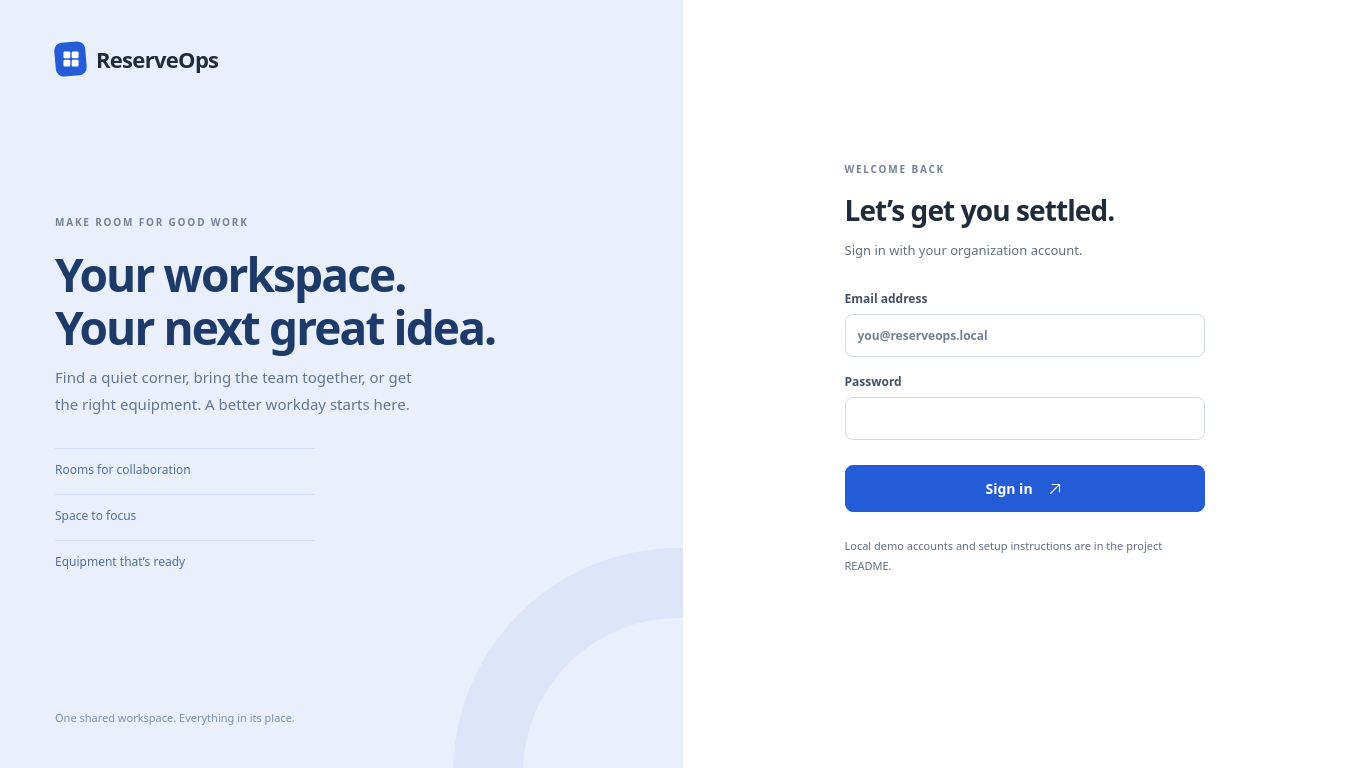
Test: ReserveOps user workflows › redirects unauthenticated users to accessible login and submits cookies with CSRF
Expected: the heading "Let’s get you settled." is shown, left=844, top=191, right=1114, bottom=229
Type "wrong@example.test" into the field labelled "Email address" at (1024, 336), box left=844, top=314, right=1204, bottom=358
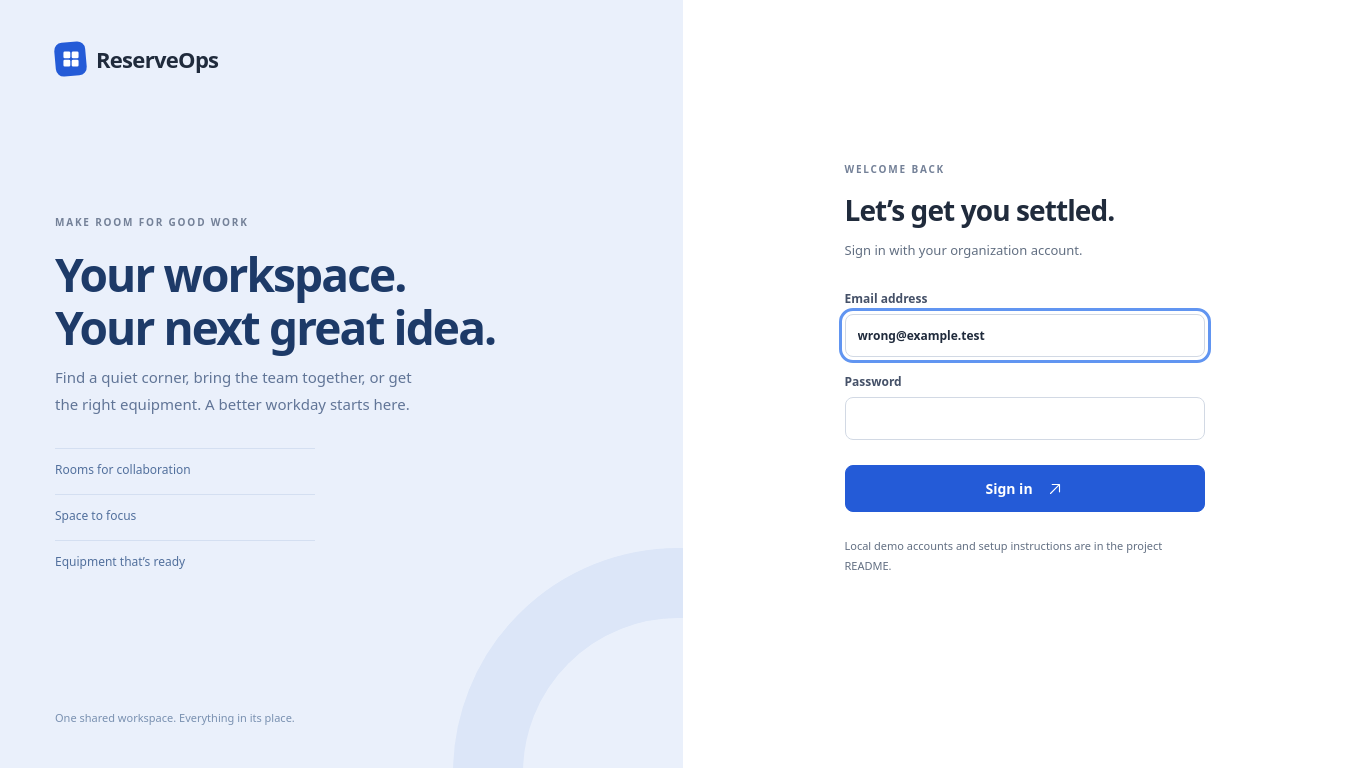
Type "wrong-password" into the password field labelled "Password" at (1024, 419), box left=844, top=398, right=1204, bottom=440
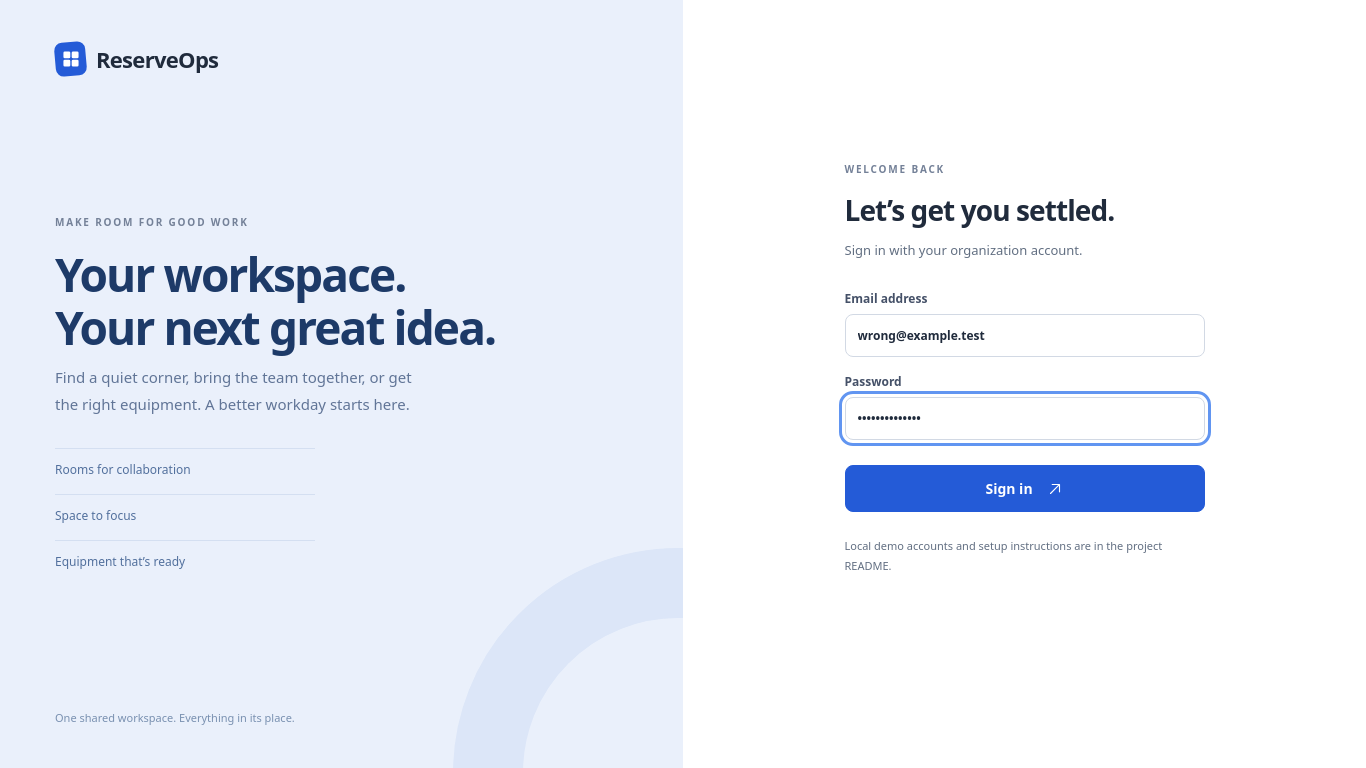
Click the button "Sign in" at (1024, 489), box left=844, top=466, right=1204, bottom=512
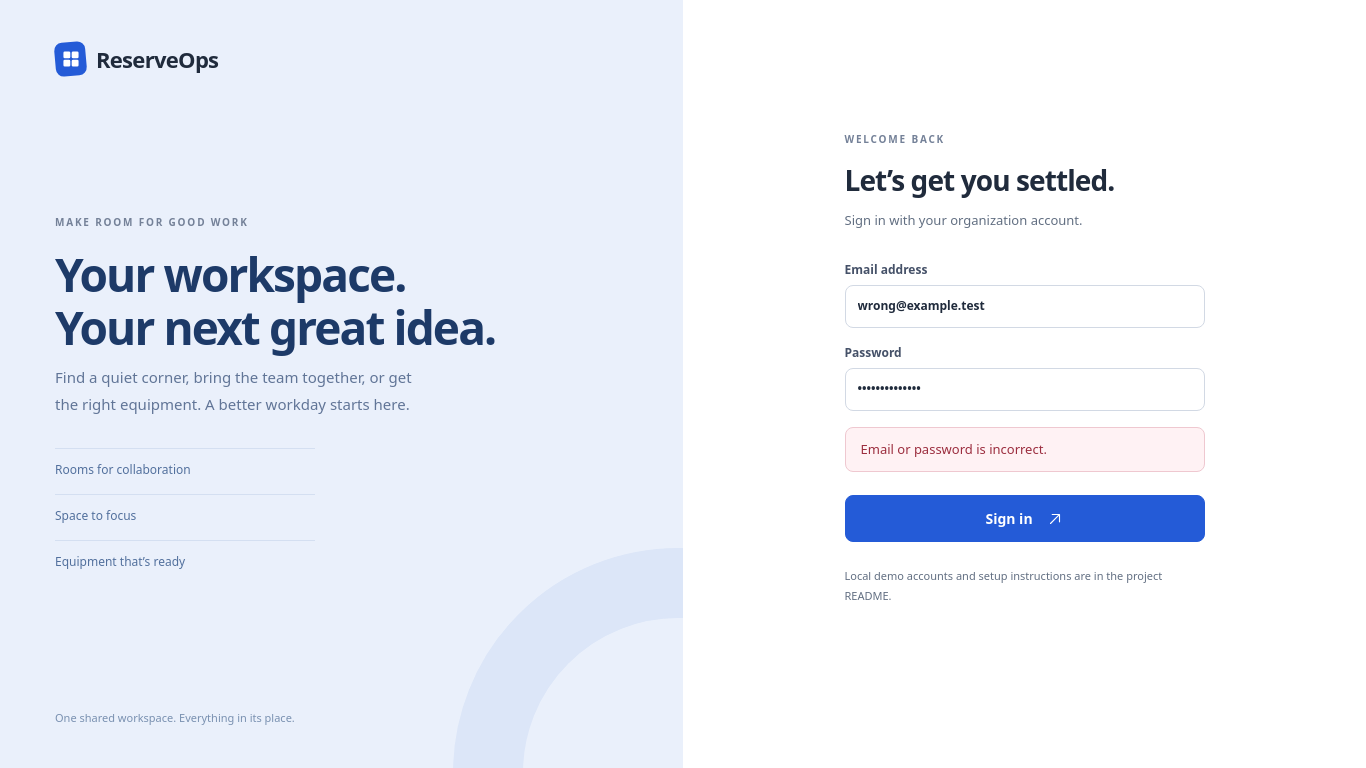
Expected: the message reads "Email or password is incorrect.", left=860, top=440, right=1047, bottom=458
